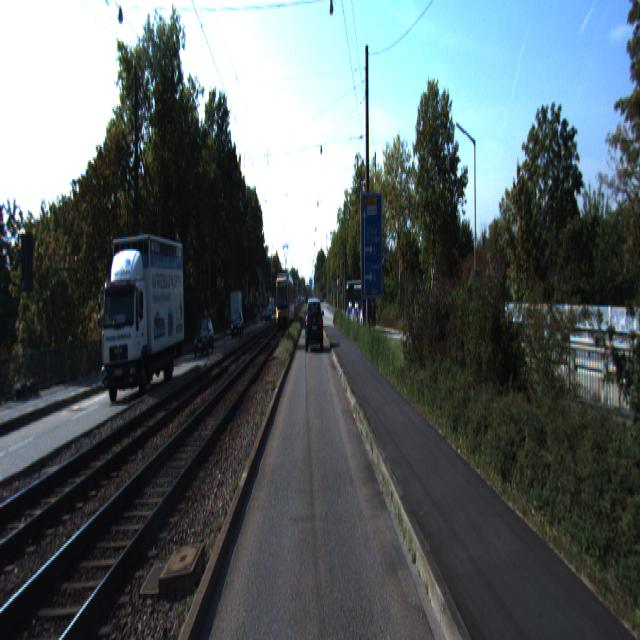Car: (98, 221, 185, 400), (345, 280, 376, 333), (193, 316, 215, 358), (307, 298, 323, 352)
